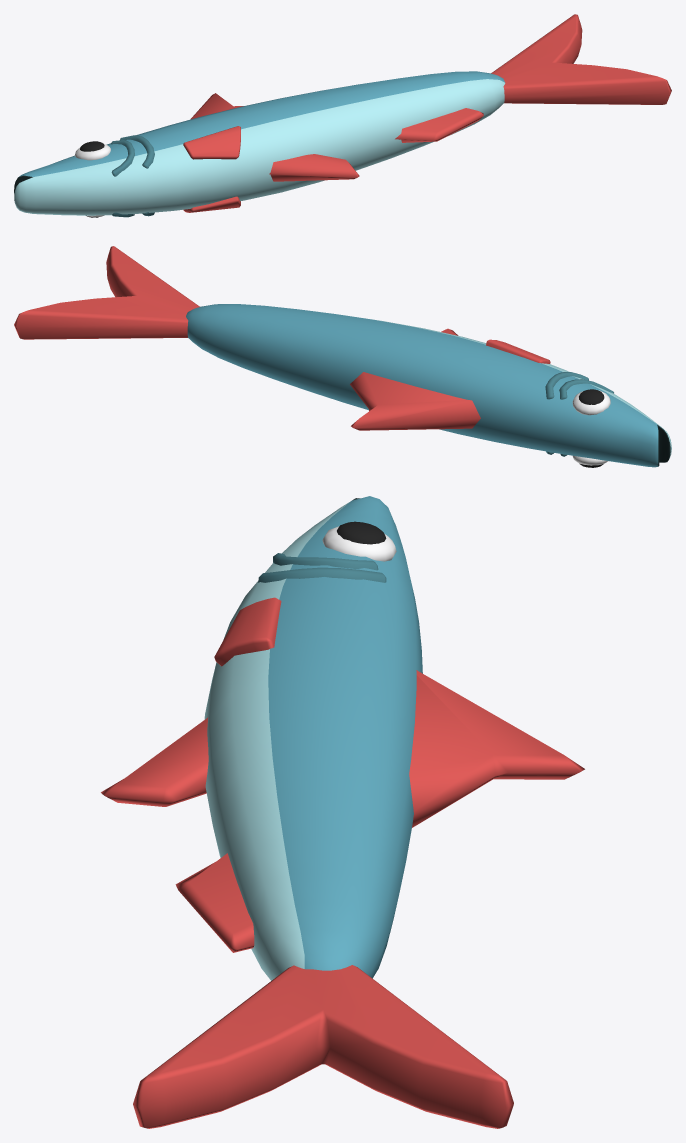
File: Sardine_2.fbx
3 renders of one model, top to bottom at view 1: azimuth 30°, elevation 25°; view 2: azimuth 150°, elevation 25°; view 3: azimuth 270°, elevation 25°, orthographic. The views are drawn at different scales.
Parts seen in each view (by area): view 1: Sardine_2; view 2: Sardine_2; view 3: Sardine_2.
Boxes of the visible parts, x1,y1,x2,y2 form: Sardine_2: (14,14,671,217); Sardine_2: (14,246,671,467); Sardine_2: (101,496,584,1128).
Bounding box in the file's own units: 32.12 × 4.1 × 11.2.
